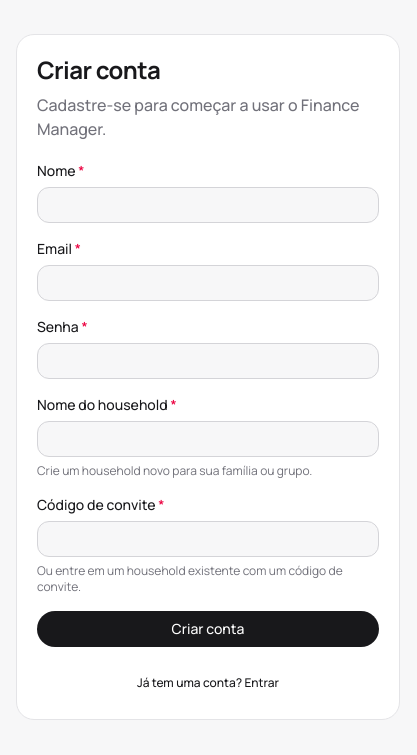
Test: RegisterPage › shows the backend title as a general error for an invalid invite code (400 plain shape)
Type "Household Owner" into the field labelled "Nome *" at (208, 205), box [37,187,379,223]
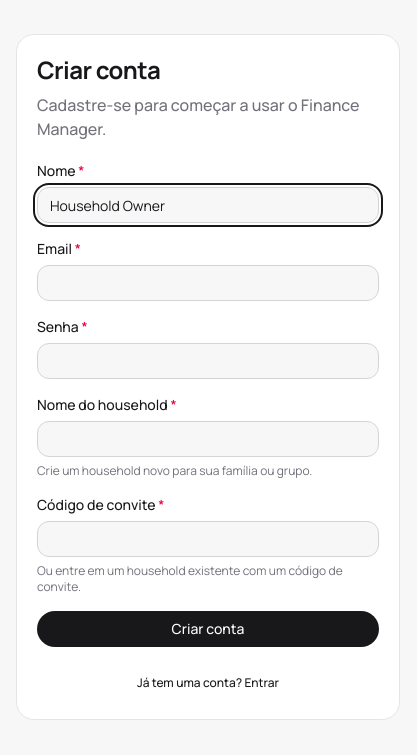
Type "owner@example.com" into the field labelled "Email *" at (208, 283), box [37,265,379,301]
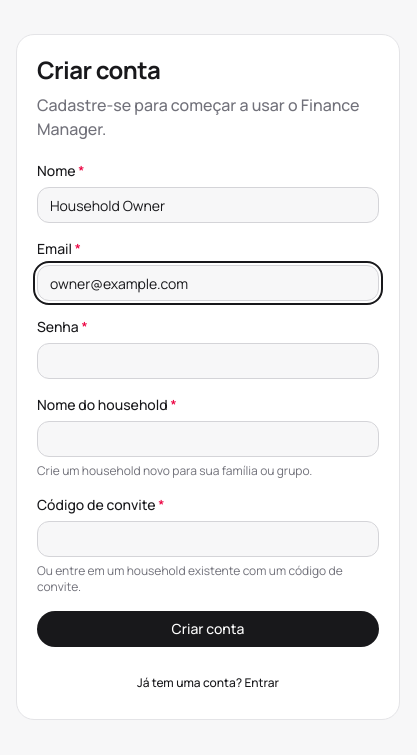
Type "SomePassword123" into the password field labelled "Senha *" at (208, 361), box [37,343,379,379]
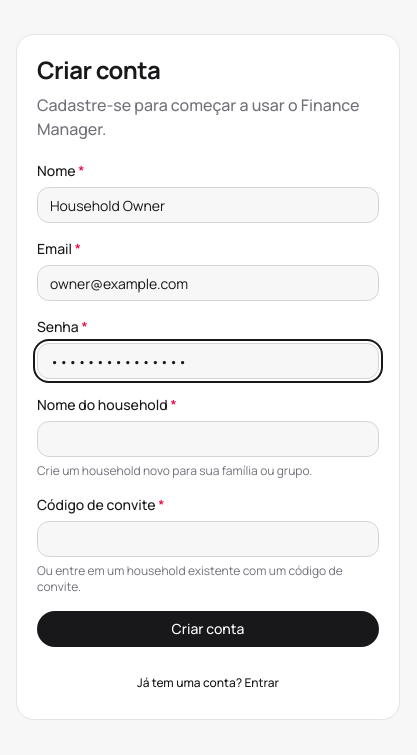
Type "BADCODE1" into the field labelled "Código de convite *" at (208, 539), box [37,521,379,557]
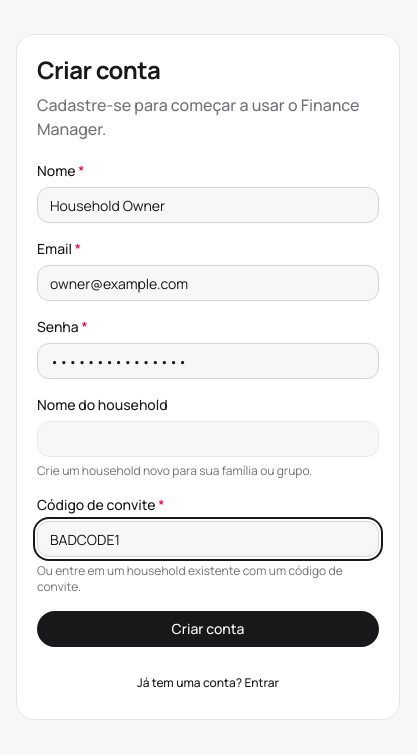
Click the button "Criar conta" at (208, 629), box [37,611,379,647]
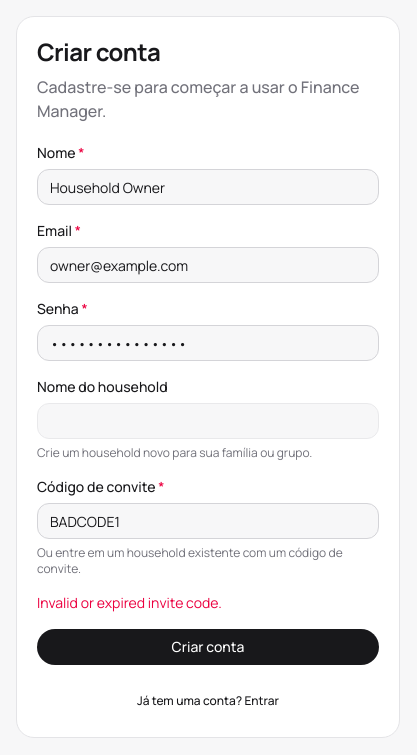
Check: the message shows "Invalid or expired invite code", box [37,593,222,612]
